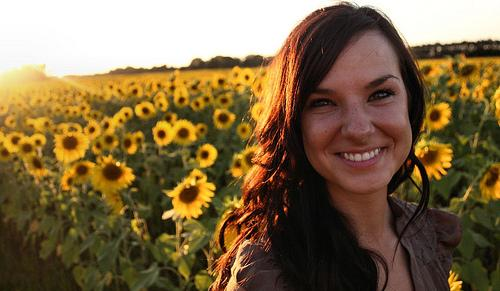sunflower: (167, 170, 217, 219), (411, 144, 452, 183), (93, 156, 135, 191), (53, 132, 90, 160), (427, 102, 452, 130), (481, 165, 500, 200), (173, 119, 198, 143), (153, 122, 174, 144), (197, 144, 217, 167), (214, 109, 235, 128)
